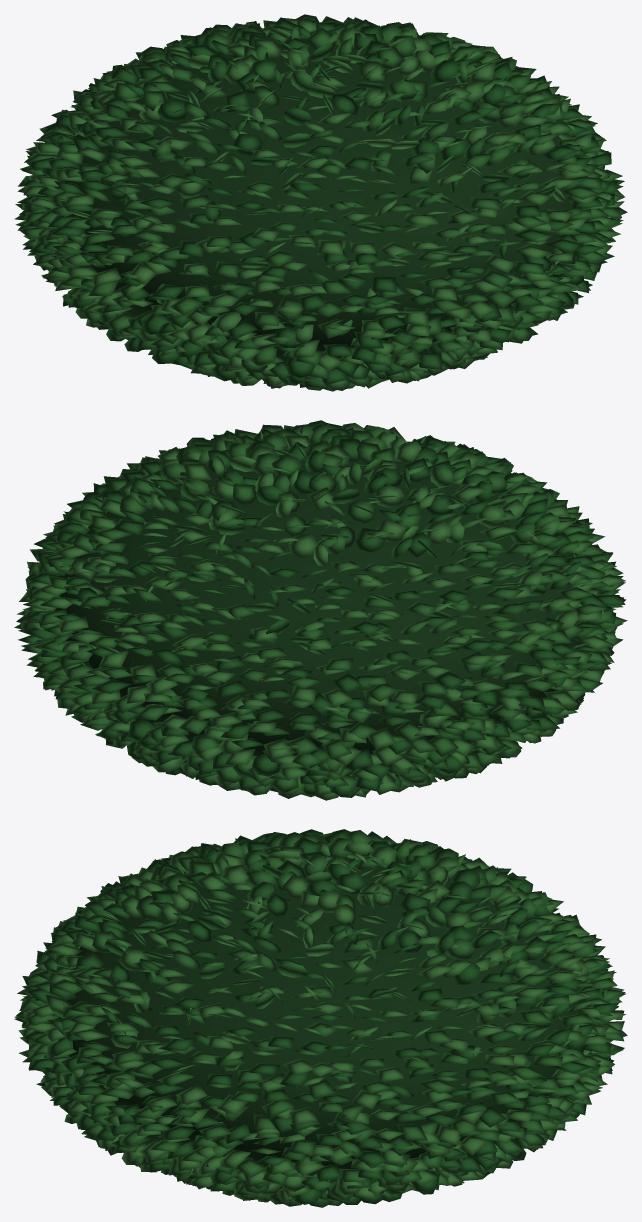
File: Topiary_Dome.fbx
The picture shows the model from 3 angles, top to bottom: view 1: azimuth 30°, elevation 25°; view 2: azimuth 150°, elevation 25°; view 3: azimuth 270°, elevation 25°; orthographic projection.
Visible parts, largest first — view 1: Topiary_Dome; view 2: Topiary_Dome; view 3: Topiary_Dome.
Part boxes in pixels (<box>): Topiary_Dome: <box>14,14,627,391</box>; Topiary_Dome: <box>14,420,627,800</box>; Topiary_Dome: <box>14,829,627,1207</box>.
Bounding box in the file's own units: 0.848 × 0.42 × 0.8494.
4 materials, 4 textured.
